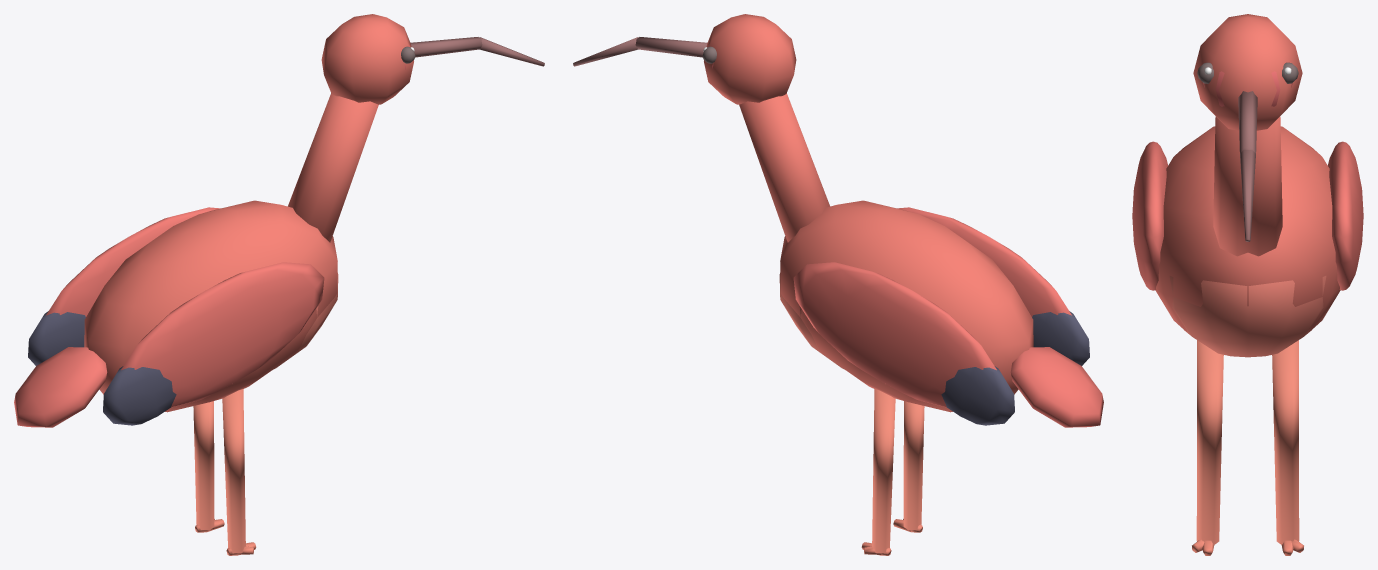
The model's file is scarlet-ibis.glb.
3 views of the same model, side by side, from view 1: azimuth 30°, elevation 25°; view 2: azimuth 150°, elevation 25°; view 3: azimuth 270°, elevation 25° (orthographic). The views are drawn at different scales.
Parts seen in each view (by area): view 1: e, e.002, e.009, e.007, e.004, limb, limb.004; view 2: e, e.004, e.009, e.007, e.002, limb.004, limb; view 3: e, e.009, e.007, limb, limb.004, e.002, e.004.
Boxes of the visible parts, x1=… form: e: x1=14, y1=200, x2=338, y2=427; e.002: x1=103, y1=262, x2=324, y2=425; e.009: x1=321, y1=14, x2=544, y2=104; e.007: x1=288, y1=93, x2=378, y2=242; e.004: x1=28, y1=207, x2=220, y2=365; limb: x1=222, y1=389, x2=256, y2=555; limb.004: x1=193, y1=401, x2=224, y2=532; e: x1=779, y1=200, x2=1103, y2=427; e.004: x1=793, y1=262, x2=1014, y2=425; e.009: x1=573, y1=14, x2=796, y2=104; e.007: x1=739, y1=93, x2=829, y2=242; e.002: x1=897, y1=207, x2=1089, y2=365; limb.004: x1=861, y1=389, x2=895, y2=555; limb: x1=893, y1=401, x2=924, y2=532; e: x1=1155, y1=126, x2=1340, y2=357; e.009: x1=1193, y1=14, x2=1302, y2=241; e.007: x1=1213, y1=116, x2=1282, y2=256; limb: x1=1192, y1=340, x2=1223, y2=555; limb.004: x1=1272, y1=340, x2=1303, y2=555; e.002: x1=1132, y1=141, x2=1167, y2=290; e.004: x1=1328, y1=141, x2=1363, y2=290.
Size of the model in its own units: 0.6578 by 0.5839 by 0.198.
